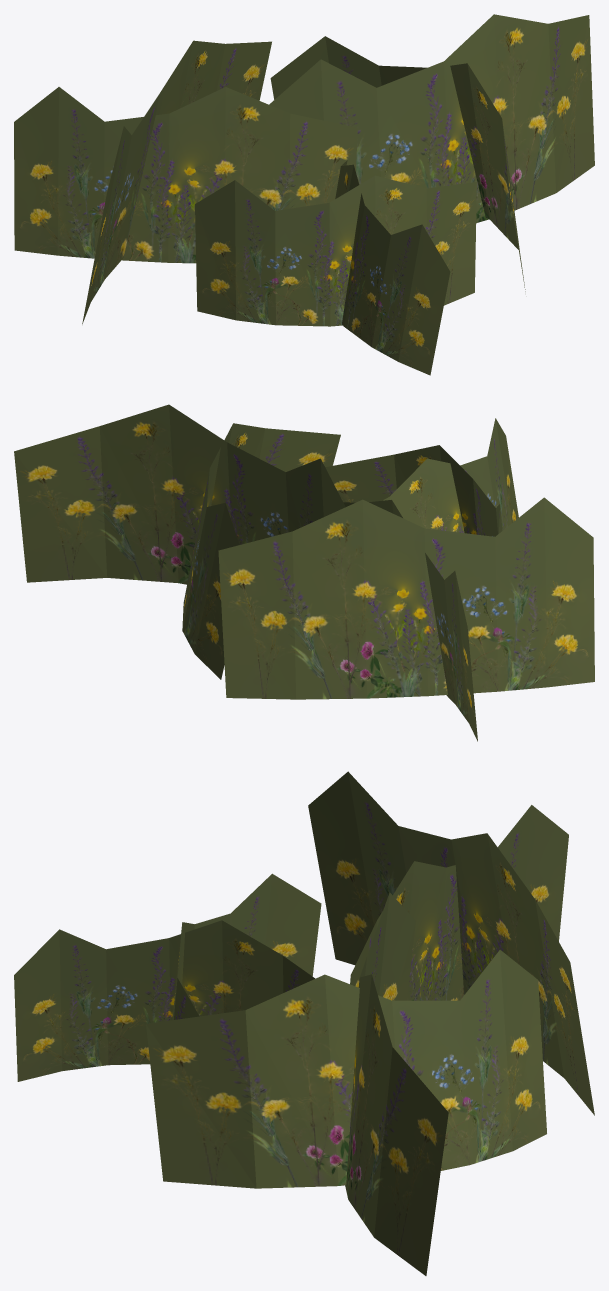
File: SM_Grass_Flowers03.fbx
3 renders of one model, top to bottom at view 1: azimuth 30°, elevation 25°; view 2: azimuth 150°, elevation 25°; view 3: azimuth 270°, elevation 25°, orthographic. The views are drawn at different scales.
Parts seen in each view (by area): view 1: Grass_Flowers03_LOD0; view 2: Grass_Flowers03_LOD0; view 3: Grass_Flowers03_LOD0.
Part boxes in pixels (left/top/right/bottom): Grass_Flowers03_LOD0: left=14, top=14, right=594, bottom=375; Grass_Flowers03_LOD0: left=14, top=404, right=594, bottom=741; Grass_Flowers03_LOD0: left=14, top=771, right=594, bottom=1275.
Size of what is drawn, in the model's own units: 246 by 317 by 112.
